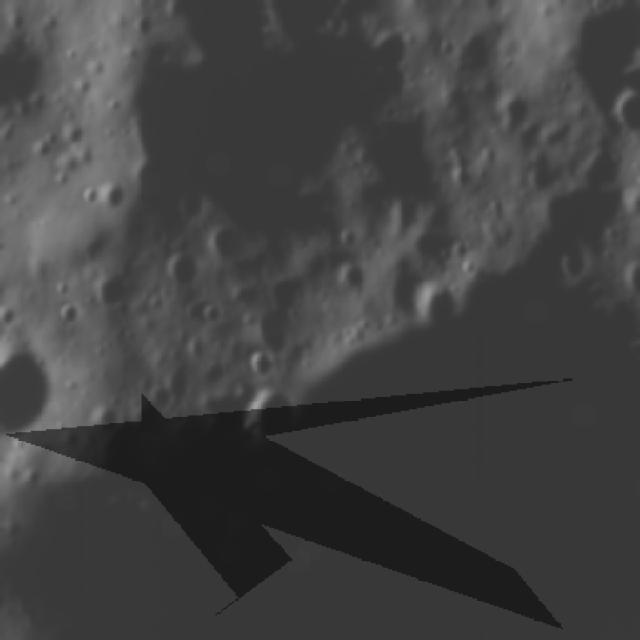crater: (241, 389, 293, 448), (412, 284, 458, 328), (95, 174, 124, 221), (170, 248, 199, 295), (96, 275, 130, 313), (559, 247, 590, 284), (152, 375, 186, 408), (202, 302, 232, 331), (48, 301, 81, 327), (337, 265, 365, 292), (62, 120, 84, 154), (245, 354, 280, 374), (38, 129, 57, 160), (136, 12, 158, 36), (335, 227, 356, 245), (59, 274, 70, 303)
